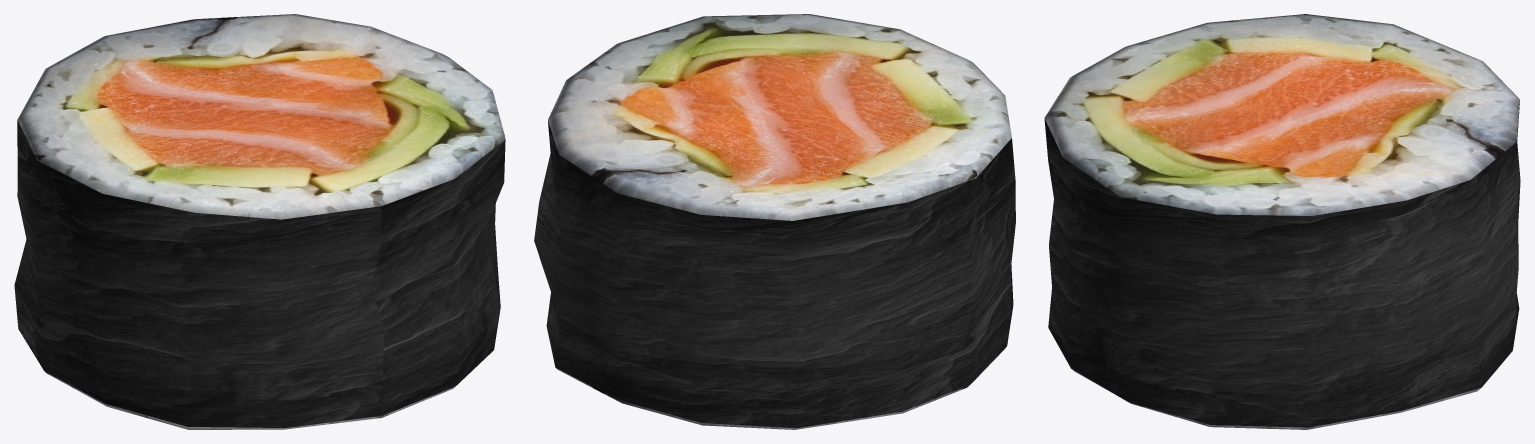
File: Sushi 1.FBX
3 views of the same model, side by side, from view 1: azimuth 30°, elevation 25°; view 2: azimuth 150°, elevation 25°; view 3: azimuth 270°, elevation 25° (orthographic).
Visible parts, largest first — view 1: sushi 1; view 2: sushi 1; view 3: sushi 1.
Boxes of the visible parts, <box> form: sushi 1: <box>14,14,505,429</box>; sushi 1: <box>534,14,1015,429</box>; sushi 1: <box>1044,14,1520,429</box>.
Bounding box in the file's own units: 5.43 × 2.79 × 5.37.
Materials: 1 (1 with a texture image).
